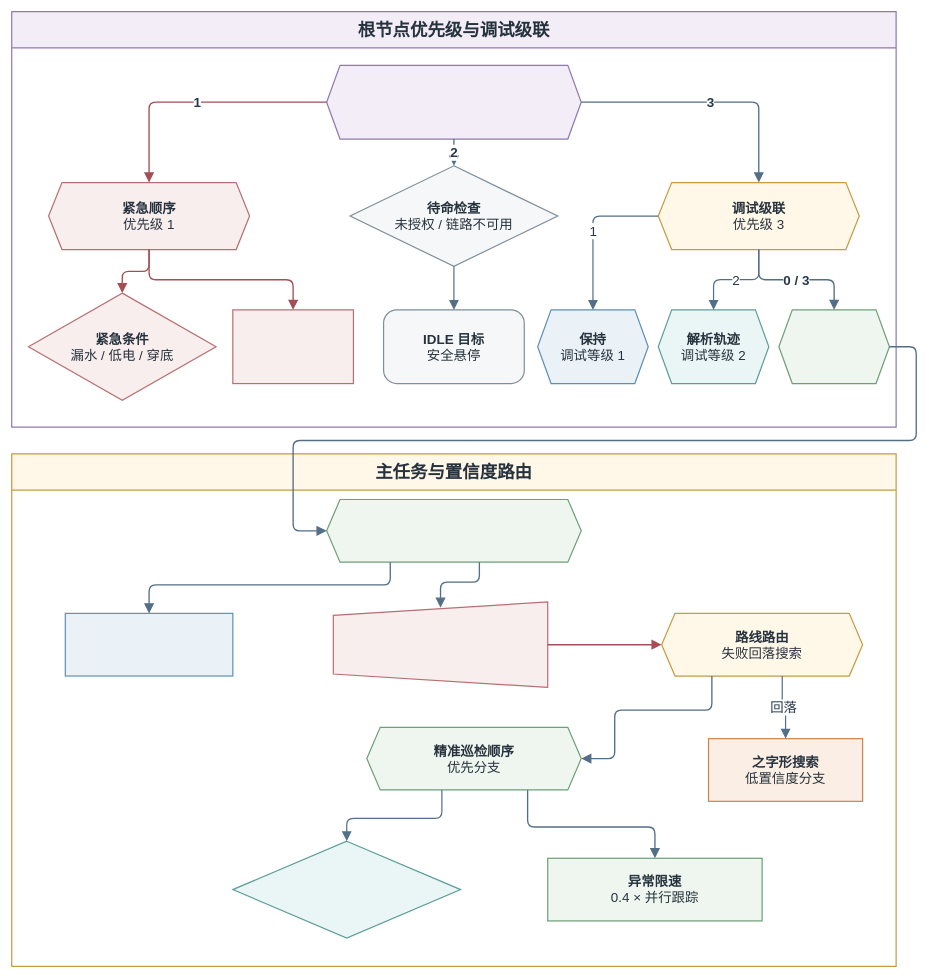
The diagram is 937 pixels wide and 979 high, and some of its shapes have lost their labels. Here are the shapes that lost their labels. From the top down, the centre of each, then its label:
At (453,101): "根选择器 memory=False；逐 tick 重查".
At (293,346): "紧急上浮".
At (834,346): "主任务 调试等级 0 / 3".
At (453,530): "主任务顺序 Sequence；memory=False".
At (148,644): "定深下潜 目标深度 4 m".
At (440,644): "海底安全限制 穿底约束；降速 0.5".
At (346,889): "置信度门控 定位可用且通过门限".
